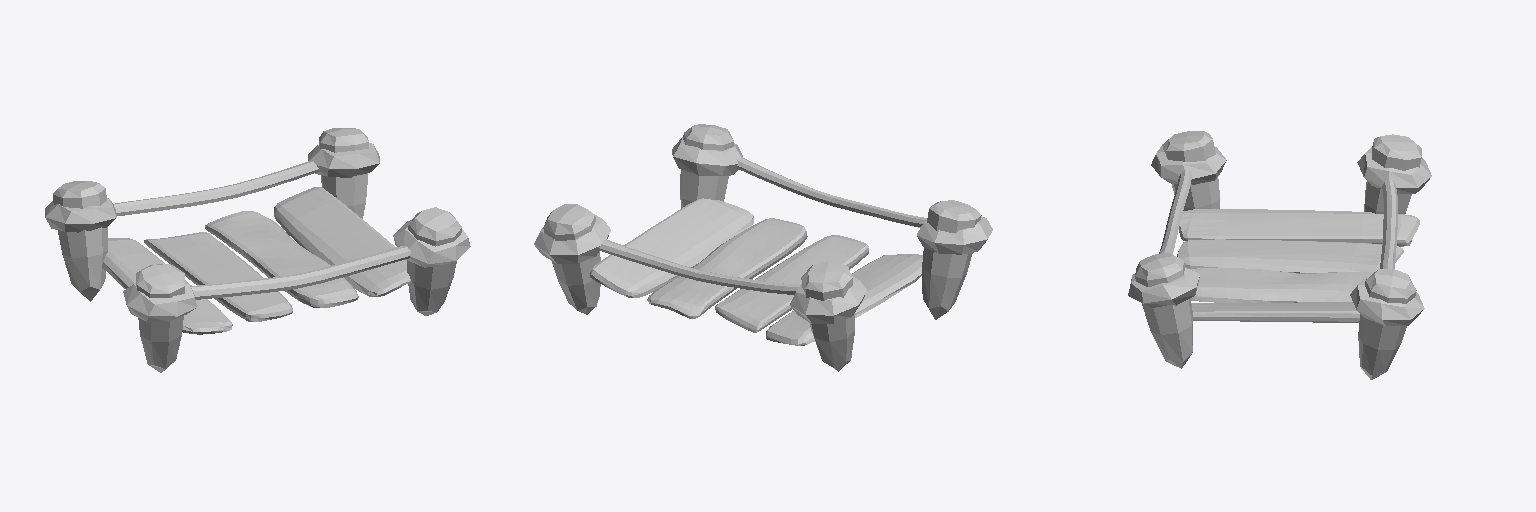
The model's file is tropical_bridge_whole.obj.
3 views of the same model, side by side, from view 1: azimuth 30°, elevation 25°; view 2: azimuth 150°, elevation 25°; view 3: azimuth 270°, elevation 25° (orthographic).
Visible parts, largest first — view 1: bridge.004_Cube.012, bridge.005_Cube.017, bridge.006_Cube.018; view 2: bridge.004_Cube.012, bridge.006_Cube.018, bridge.005_Cube.017; view 3: bridge.004_Cube.012, bridge.006_Cube.018, bridge.005_Cube.017.
Part boxes in pixels (left/top/right/bottom): bridge.004_Cube.012: left=102, top=187, right=410, bottom=334; bridge.005_Cube.017: left=45, top=143, right=470, bottom=321; bridge.006_Cube.018: left=53, top=128, right=461, bottom=372; bridge.004_Cube.012: left=590, top=198, right=922, bottom=345; bridge.006_Cube.018: left=543, top=124, right=981, bottom=371; bridge.005_Cube.017: left=534, top=137, right=992, bottom=323; bridge.004_Cube.012: left=1177, top=209, right=1419, bottom=322; bridge.006_Cube.018: left=1135, top=131, right=1421, bottom=379; bridge.005_Cube.017: left=1128, top=144, right=1431, bottom=325.
Size of the model in its own units: 18.37 by 5.92 by 13.86.